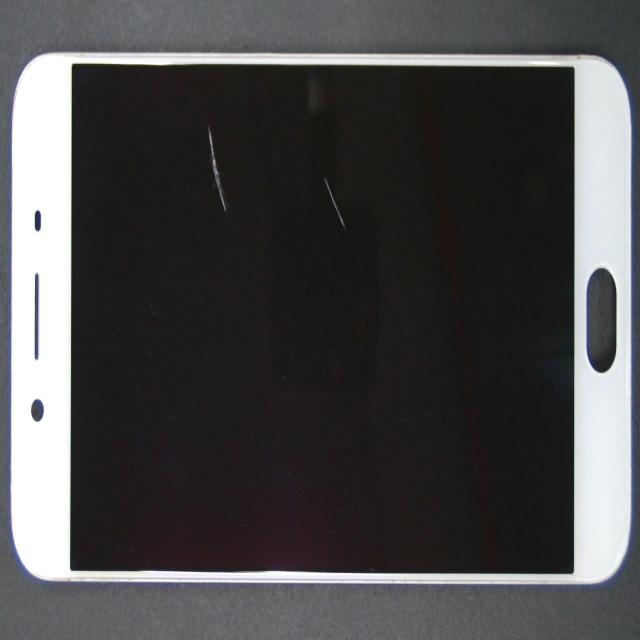scratch: (157, 40, 481, 277), (132, 127, 335, 240)
